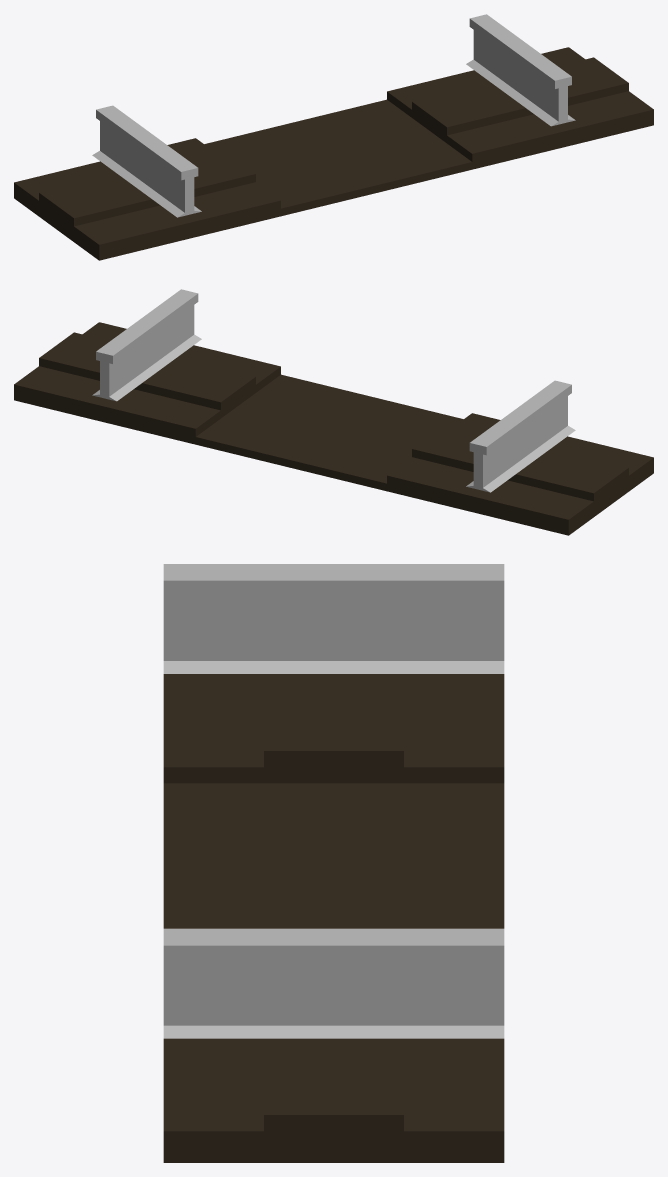
File: nyc_subway_rail_1.obj
3 renders of one model, top to bottom at view 1: azimuth 30°, elevation 25°; view 2: azimuth 150°, elevation 25°; view 3: azimuth 270°, elevation 25°, orthographic. The views are drawn at different scales.
Visible parts, largest first — view 1: cube; view 2: cube; view 3: cube.
Part boxes in pixels (x1,y1,x2,y2): cube: (14,14,653,260); cube: (14,289,653,535); cube: (163,564,504,1162).
Bounding box in the file's own units: 2.23 × 0.2641 × 0.5938.
2 materials, 2 textured.
